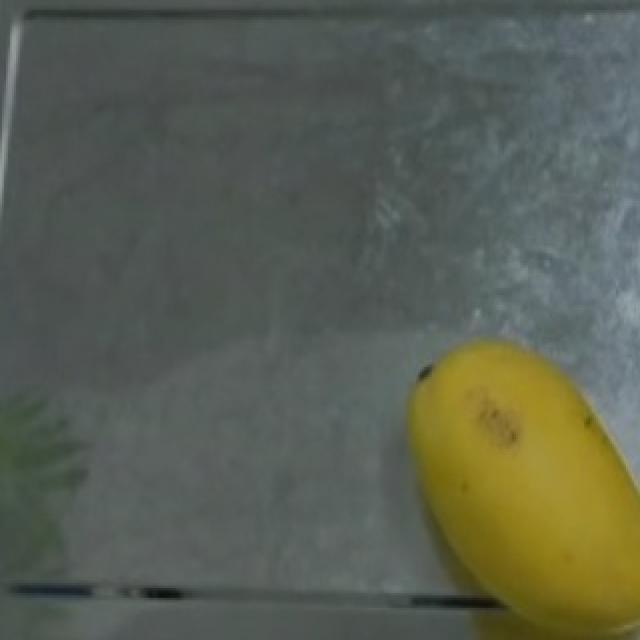fruit: (380, 325, 640, 640)
